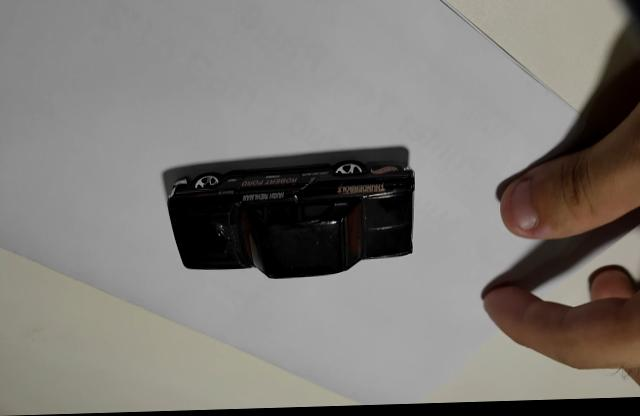01_FORD: (162, 160, 414, 279)
